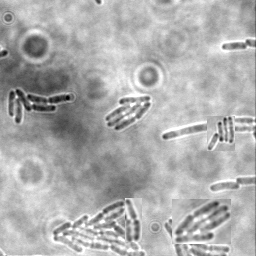Dividing: (161, 123, 255, 142), (125, 198, 142, 242), (221, 41, 248, 52)
Microcolony: (51, 200, 147, 255), (172, 199, 231, 244), (8, 89, 72, 126), (106, 96, 153, 132), (207, 116, 235, 151), (208, 182, 240, 193)
